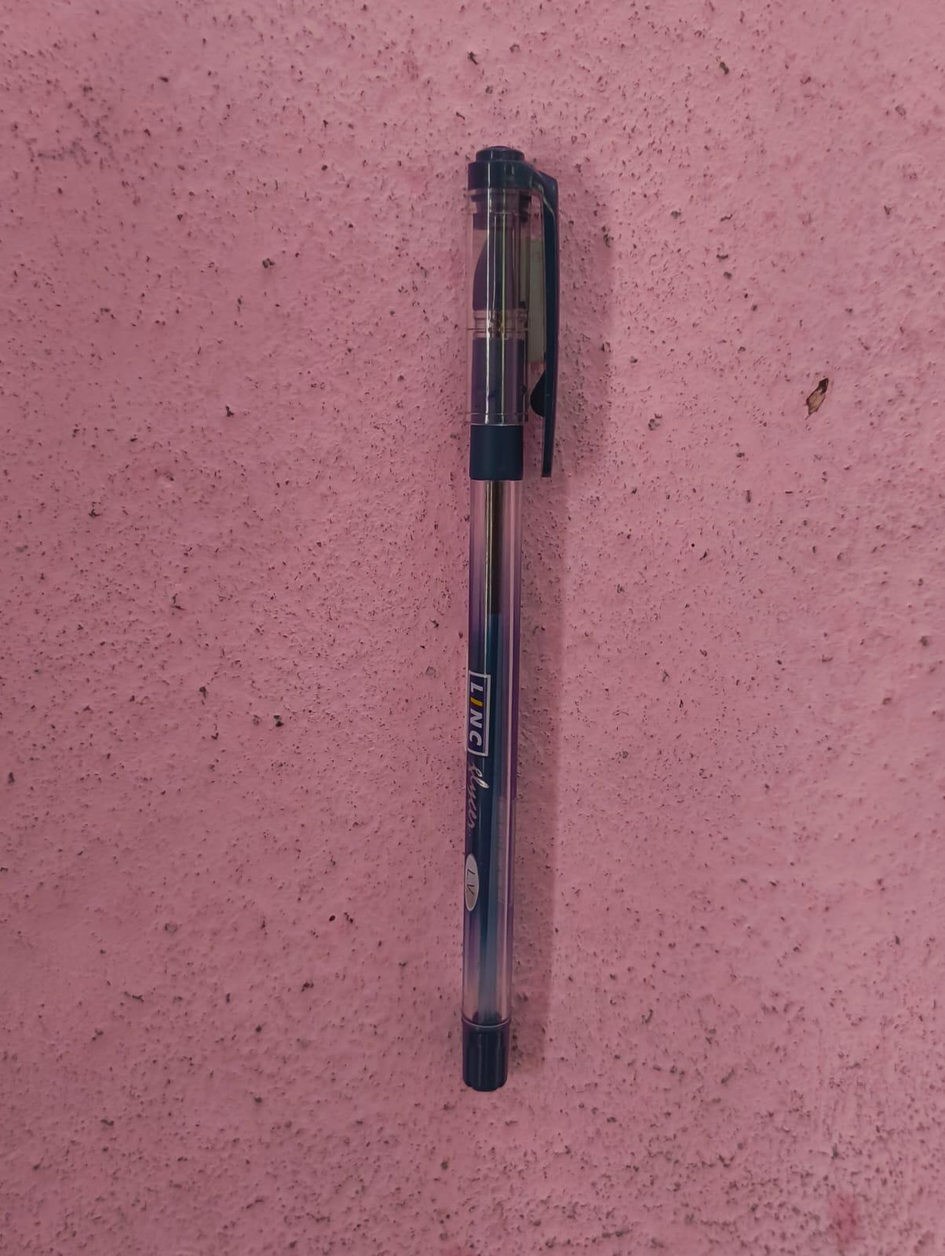pen: (451, 136, 570, 1097)
